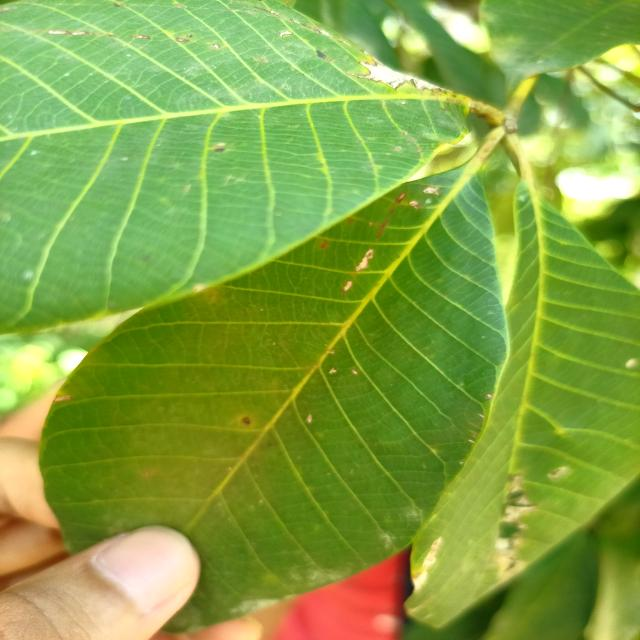Leaf-Blight: (360, 58, 438, 90), (355, 250, 374, 272), (344, 281, 352, 291)
